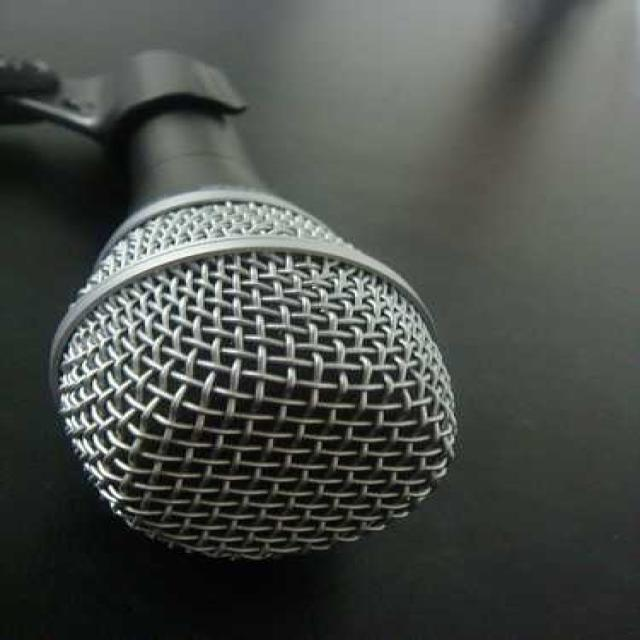microphone: (57, 37, 471, 585)
